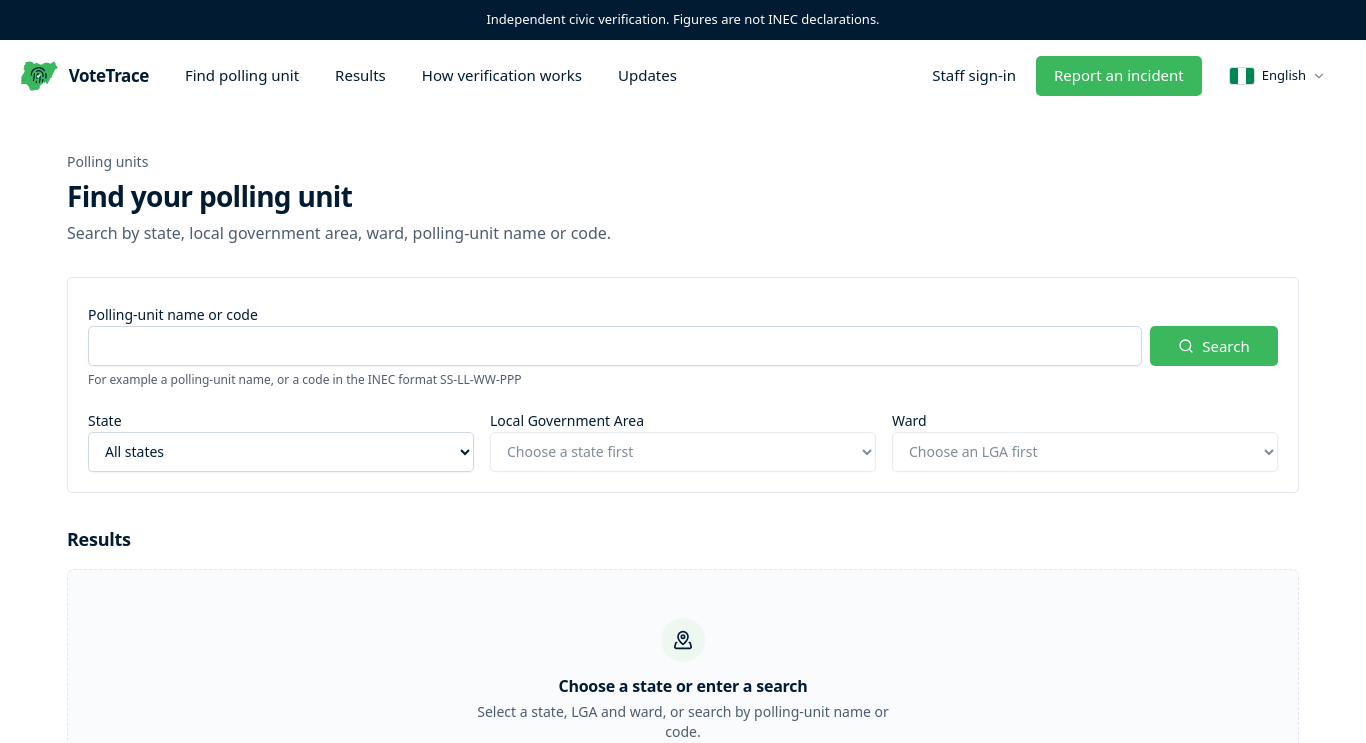
polling unit finder › cascades state, LGA and ward selection
The image size is (1366, 743).
Expected: the dropdown labelled "Local Government Area" is disabled, top-left (490, 432), bottom-right (876, 472)
Expected: the dropdown labelled "Ward" is disabled, top-left (892, 432), bottom-right (1278, 472)
Select "Lagos" in the dropdown labelled "State" at (281, 452), box top-left (88, 432), bottom-right (474, 472)
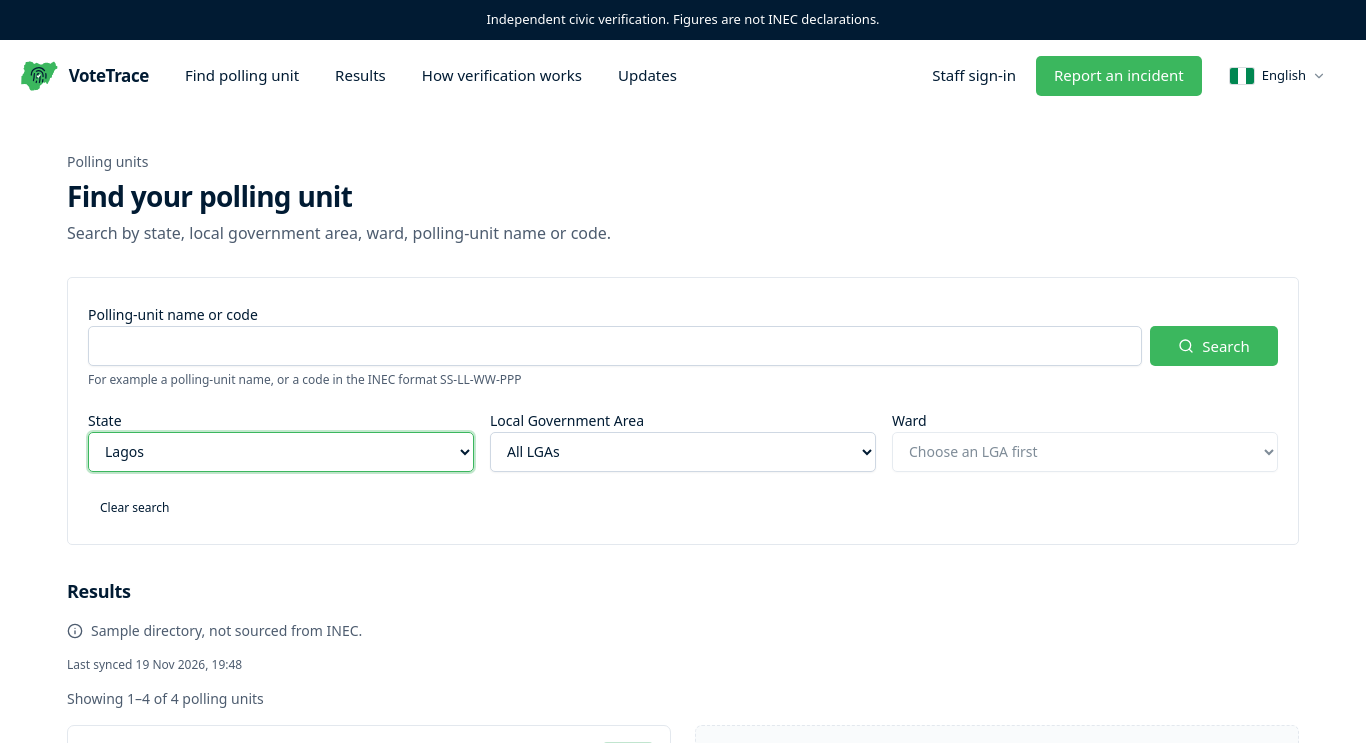
Expected: the dropdown labelled "Ward" is disabled, top-left (892, 432), bottom-right (1278, 472)
Select "Ikeja" in the dropdown labelled "Local Government Area" at (683, 452), box top-left (490, 432), bottom-right (876, 472)
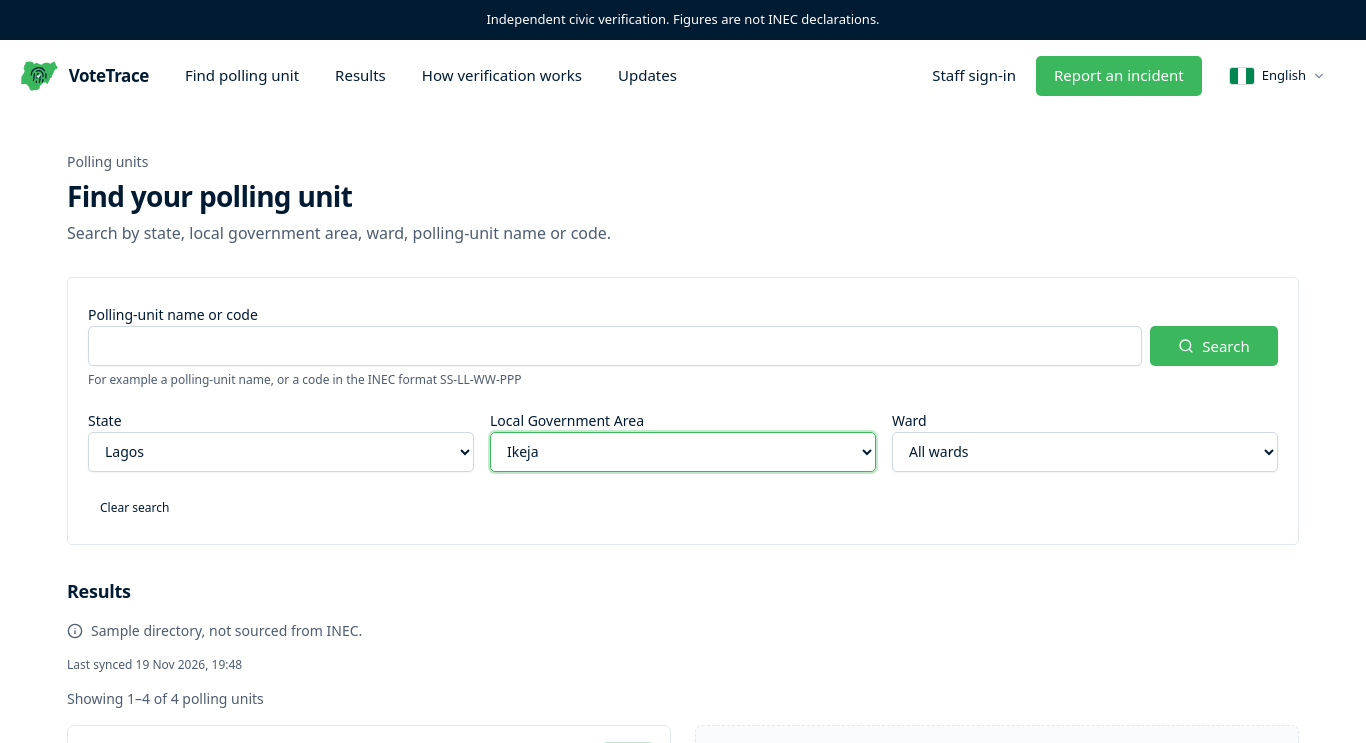
Select "Demo Ward A" in the dropdown labelled "Ward" at (1085, 452), box top-left (892, 432), bottom-right (1278, 472)
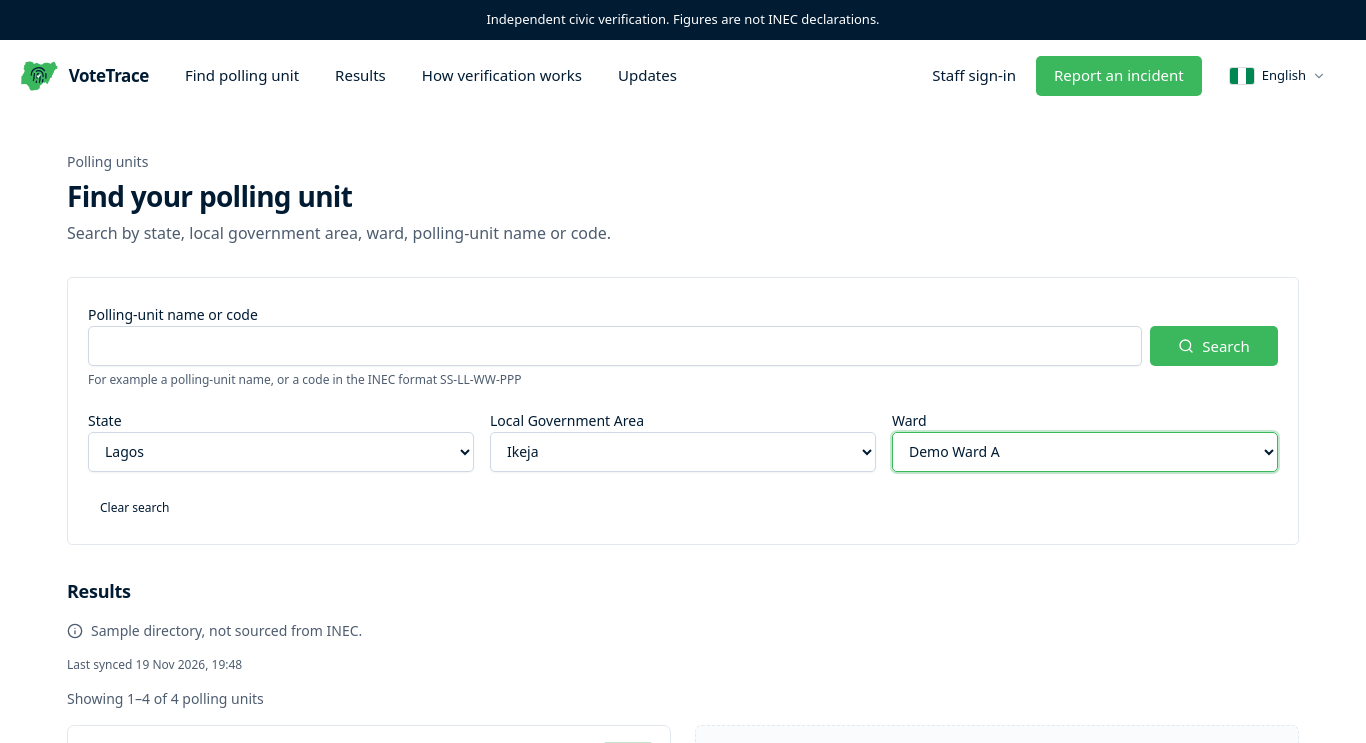
Expected: the text "Showing 1–4 of 4 polling units" is shown, top-left (67, 689), bottom-right (264, 708)
Select "Federal Capital Territory" in the dropdown labelled "State" at (281, 452), box top-left (88, 432), bottom-right (474, 472)
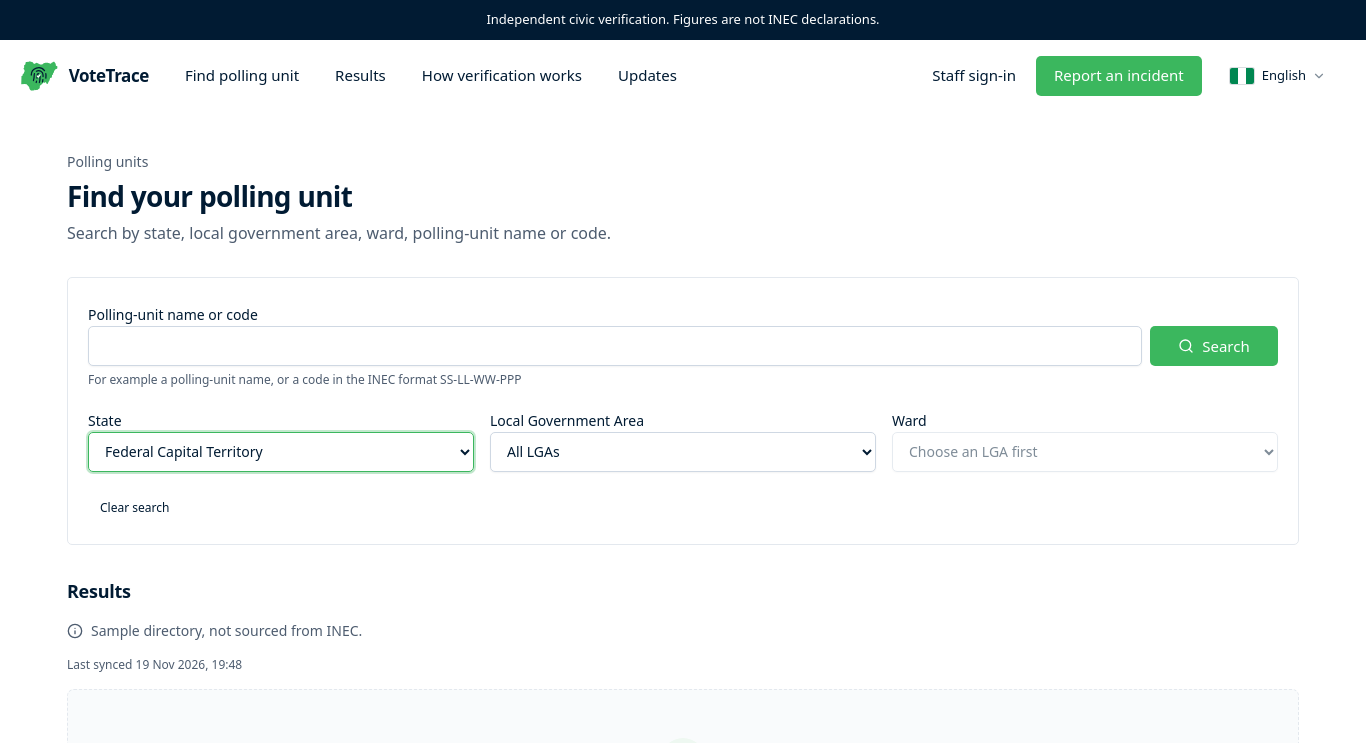
Expected: the dropdown labelled "Ward" is disabled, top-left (892, 432), bottom-right (1278, 472)
